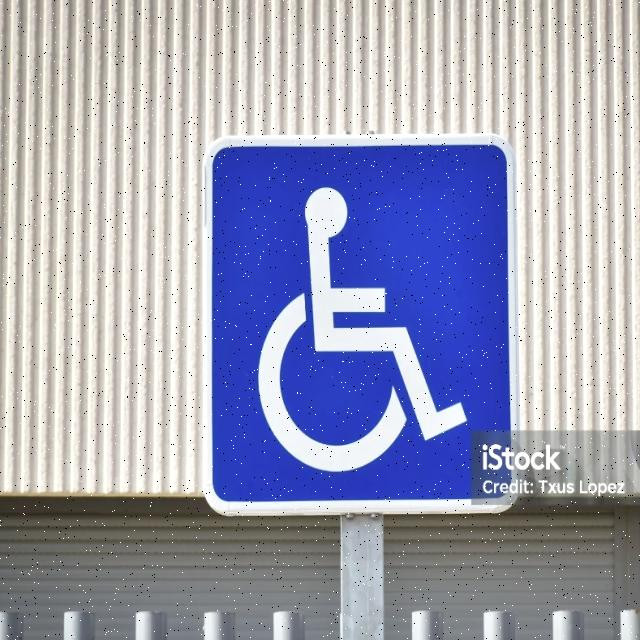symbol_of_access: (203, 133, 517, 515)
